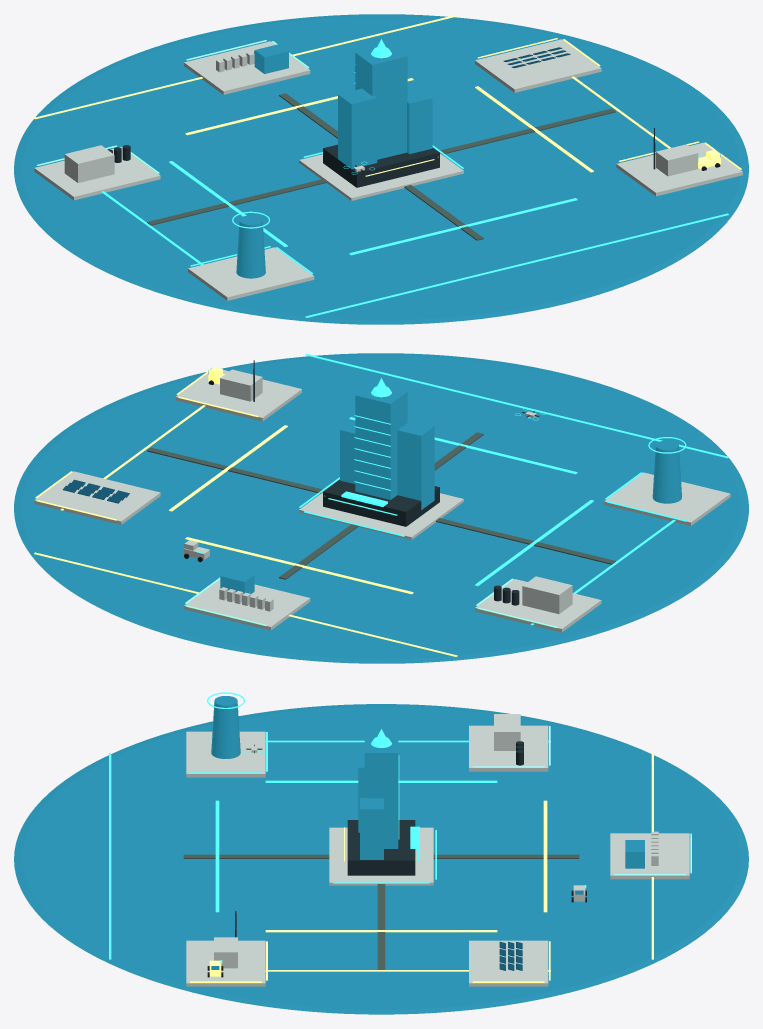
File: rj-big-world-map.glb
3 views of the same model, one above another, from view 1: azimuth 30°, elevation 25°; view 2: azimuth 150°, elevation 25°; view 3: azimuth 270°, elevation 25° (orthographic).
Visible parts, largest first — view 1: glass-map-table, central-hq-landmark-main-glass-tower, solar-operations-landmark-pad, ai-tower-landmark-pad, central-hq-landmark-west-glass-wing, storage-microgrid-landmark-pad, field-service-landmark-pad, power-factory-landmark-pad, central-hq-landmark-podium, central-hq-landmark-executive-plaza, east-west-service-road, ai-tower-landmark-tower (+9 smaller); view 2: glass-map-table, central-hq-landmark-main-glass-tower, solar-operations-landmark-pad, ai-tower-landmark-pad, central-hq-landmark-west-glass-wing, storage-microgrid-landmark-pad, field-service-landmark-pad, power-factory-landmark-pad, central-hq-landmark-podium, central-hq-landmark-executive-plaza, east-west-service-road, ai-tower-landmark-tower (+10 smaller); view 3: glass-map-table, solar-operations-landmark-pad, ai-tower-landmark-pad, storage-microgrid-landmark-pad, power-factory-landmark-pad, field-service-landmark-pad, central-hq-landmark-executive-plaza, central-hq-landmark-main-glass-tower, central-hq-landmark-podium, ai-tower-landmark-tower, central-hq-landmark-east-glass-wing, north-south-service-road (+9 smaller).
Boxes of the visible parts, bbox=[...] form: glass-map-table: bbox=[14, 14, 748, 324]; central-hq-landmark-main-glass-tower: bbox=[355, 44, 407, 159]; solar-operations-landmark-pad: bbox=[475, 39, 601, 92]; ai-tower-landmark-pad: bbox=[188, 247, 314, 300]; central-hq-landmark-west-glass-wing: bbox=[338, 88, 377, 168]; storage-microgrid-landmark-pad: bbox=[184, 41, 310, 94]; field-service-landmark-pad: bbox=[616, 143, 742, 196]; power-factory-landmark-pad: bbox=[34, 147, 160, 200]; central-hq-landmark-podium: bbox=[323, 144, 439, 187]; central-hq-landmark-executive-plaza: bbox=[299, 153, 463, 200]; east-west-service-road: bbox=[147, 108, 615, 225]; ai-tower-landmark-tower: bbox=[236, 215, 265, 278]; glass-map-table: bbox=[14, 353, 748, 663]; central-hq-landmark-main-glass-tower: bbox=[355, 383, 407, 499]; solar-operations-landmark-pad: bbox=[34, 471, 160, 524]; ai-tower-landmark-pad: bbox=[604, 472, 730, 525]; central-hq-landmark-west-glass-wing: bbox=[397, 420, 434, 509]; storage-microgrid-landmark-pad: bbox=[184, 579, 310, 630]; field-service-landmark-pad: bbox=[175, 370, 301, 421]; power-factory-landmark-pad: bbox=[475, 579, 601, 632]; central-hq-landmark-podium: bbox=[323, 479, 439, 526]; central-hq-landmark-executive-plaza: bbox=[299, 492, 463, 539]; east-west-service-road: bbox=[147, 447, 615, 564]; ai-tower-landmark-tower: bbox=[652, 440, 681, 503]; glass-map-table: bbox=[14, 704, 748, 1014]; solar-operations-landmark-pad: bbox=[469, 940, 548, 986]; ai-tower-landmark-pad: bbox=[186, 731, 265, 777]; storage-microgrid-landmark-pad: bbox=[610, 833, 689, 879]; power-factory-landmark-pad: bbox=[469, 725, 548, 771]; field-service-landmark-pad: bbox=[186, 940, 265, 986]; central-hq-landmark-executive-plaza: bbox=[329, 827, 433, 885]; central-hq-landmark-main-glass-tower: bbox=[364, 735, 398, 848]; central-hq-landmark-podium: bbox=[347, 820, 415, 875]; ai-tower-landmark-tower: bbox=[211, 696, 240, 758]; central-hq-landmark-east-glass-wing: bbox=[360, 798, 383, 859]; north-south-service-road: bbox=[183, 854, 579, 858].
Bounding box in the file's own units: 52 × 10.58 × 52.
